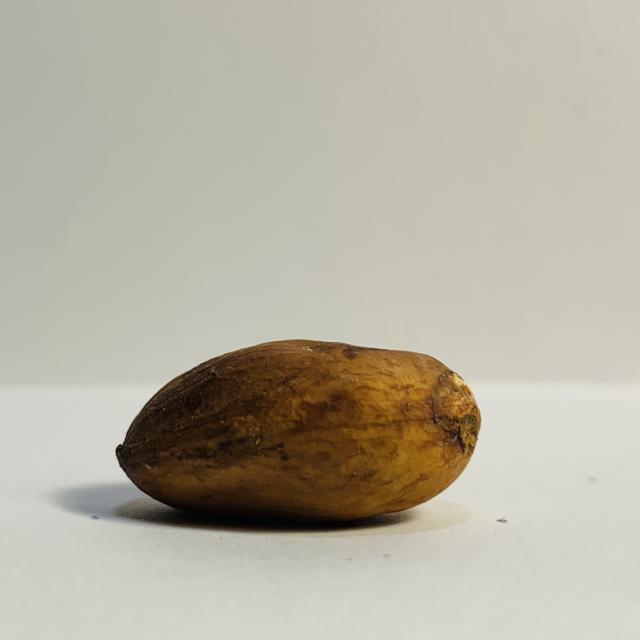Fine_cocoabeans: (0, 316, 563, 561)
